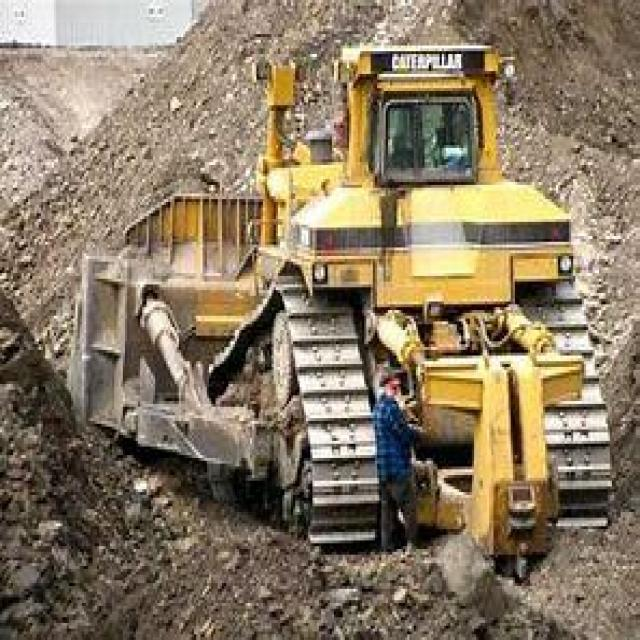Bulldozer: (52, 28, 614, 574)
